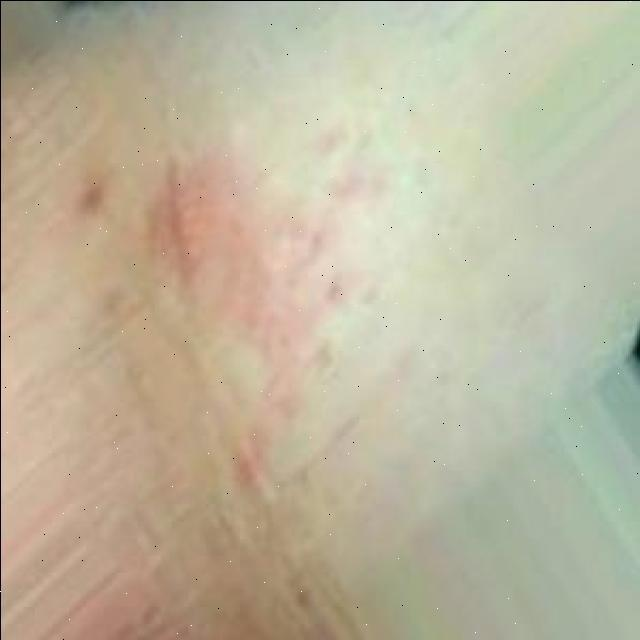Shingles: (140, 117, 384, 485)
